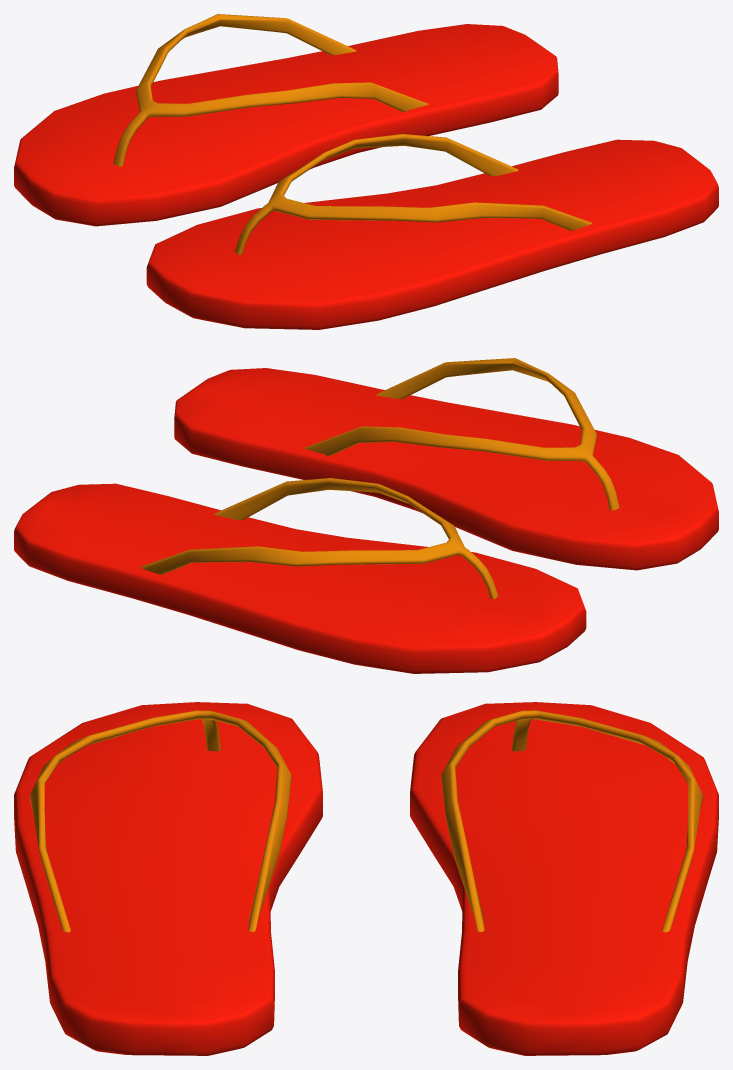
File: Slipper.fbx
3 views of the same model, one above another, from view 1: azimuth 30°, elevation 25°; view 2: azimuth 150°, elevation 25°; view 3: azimuth 270°, elevation 25° (orthographic). The views are drawn at different scales.
Visible parts, largest first — view 1: Plane.002, Plane.001; view 2: Plane.002, Plane.001; view 3: Plane.002, Plane.001.
Part boxes in pixels (bbox=[...]): Plane.002: bbox=[14, 24, 718, 329]; Plane.001: bbox=[113, 14, 591, 254]; Plane.002: bbox=[14, 368, 718, 673]; Plane.001: bbox=[141, 358, 619, 598]; Plane.002: bbox=[14, 702, 718, 1055]; Plane.001: bbox=[30, 710, 702, 932].
Size of the model in its own units: 197 by 31.19 by 181.
